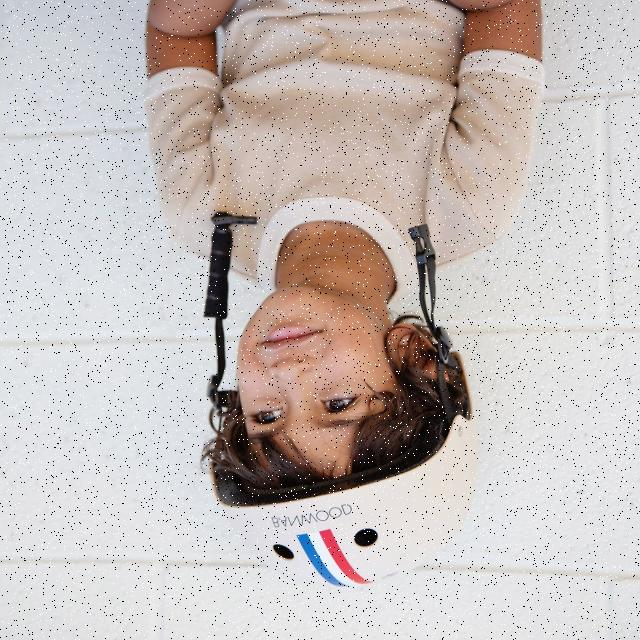Helmet: (212, 282, 480, 590)
